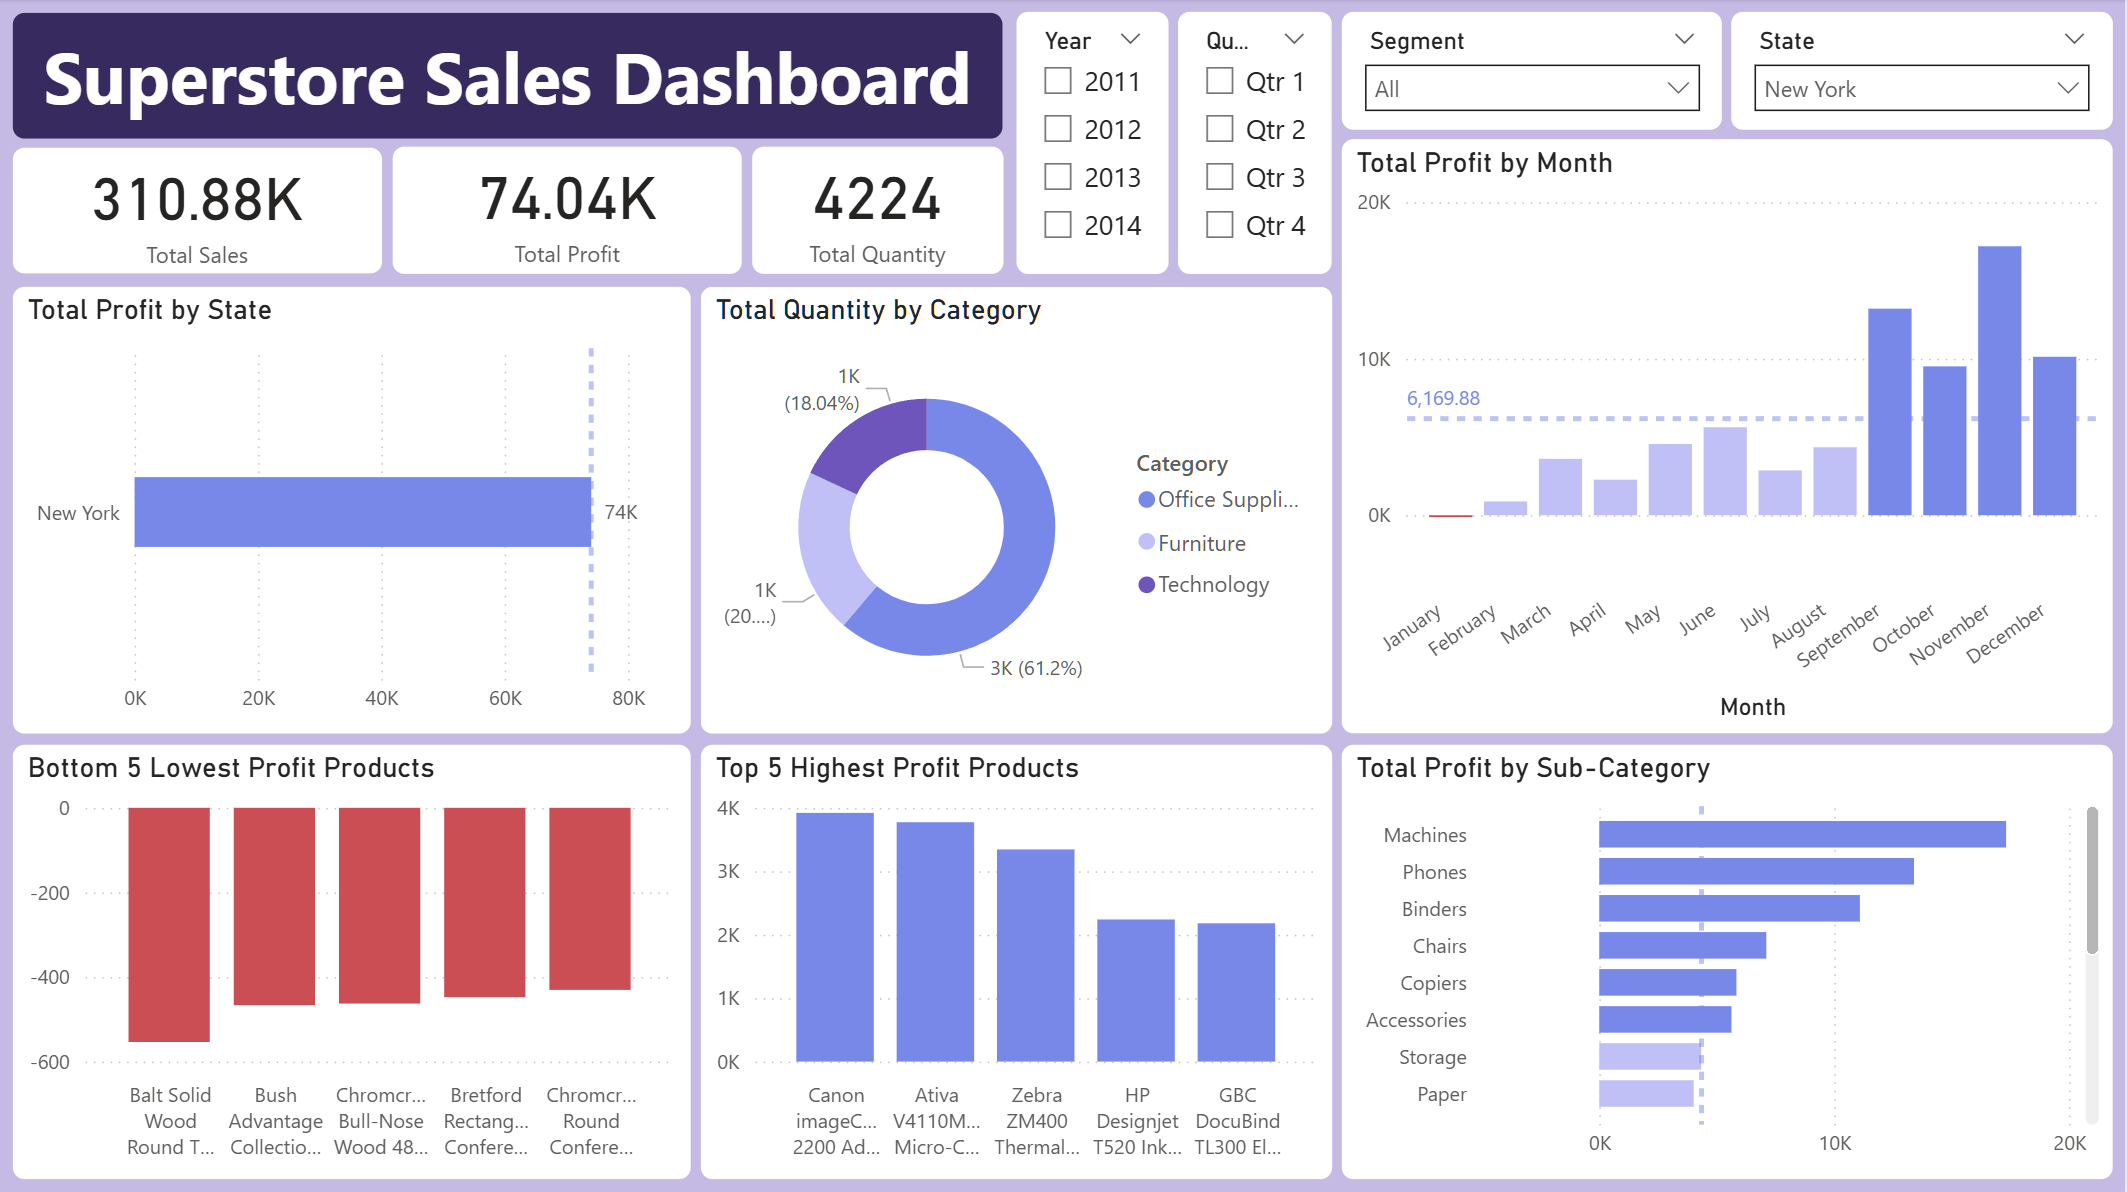

Layout of this report page (visuals, bound fields, positions):
{"tool":"powerbi","page":{"name":"Superstore Sales Dashboard","canvas":[1280,720],"ordinal":0},"visuals":[{"type":"card","fields":{"Values":["Sum(FactSales.Sales)"]},"box":[7.8,89.6,222.3,75.8],"z":0},{"type":"card","fields":{"Values":["Sum(FactSales.Profit)"]},"box":[236.7,88.9,210.5,76.5],"z":1000},{"type":"card","fields":{"Values":["Sum(FactSales.Quantity)"]},"box":[453.1,88.9,151,76.5],"z":2000},{"type":"slicer","fields":{"Values":["FactSales.Order Date.Variation.Date Hierarchy.Year"]},"box":[612.6,7.8,91.5,157.6],"z":3000},{"type":"slicer","fields":{"Values":["FactSales.Order Date.Variation.Date Hierarchy.Quarter"]},"box":[710,7.8,92.8,157.6],"z":4000},{"type":"clusteredBarChart","title":"Total Profit by State","fields":{"Y":["Sum(FactSales.Profit)"],"Category":["DimLocation.State"]},"box":[7.8,173.3,408,269.4],"z":5000},{"type":"donutChart","title":"Total Quantity by Category","fields":{"Y":["Sum(FactSales.Quantity)"],"Category":["DimProduct.Category"]},"box":[422.4,173.3,380.5,269.4],"z":6000},{"type":"clusteredColumnChart","title":"Total Profit by Month","fields":{"Category":["FactSales.Order Date.Variation.Date Hierarchy.Month"],"Y":["Sum(FactSales.Profit)"]},"box":[808.1,84.3,464.9,358.3],"z":7000},{"type":"slicer","fields":{"Values":["FactSales.Segment"]},"box":[808.1,7.8,229.4,70.6],"z":8000},{"type":"textbox","box":[7.8,8.5,596.3,75.8],"z":9000},{"type":"clusteredBarChart","title":"Total Profit by Sub-Category","fields":{"Y":["Sum(FactSales.Profit)"],"Category":["DimProduct.Sub-Category"]},"box":[808.1,449.2,464.9,261.5],"z":10000},{"type":"slicer","fields":{"Values":["DimLocation.State"]},"box":[1043.3,7.8,229.7,70.6],"z":11000},{"type":"clusteredColumnChart","title":"Top 5 Highest Profit Products","fields":{"Y":["Sum(FactSales.Profit)"],"Category":["DimProduct.Product Name"]},"box":[422.4,449.2,380.5,261.5],"z":12000},{"type":"clusteredColumnChart","title":"Bottom 5 Lowest Profit Products","fields":{"Y":["Sum(FactSales.Profit)"],"Category":["DimProduct.Product Name"]},"box":[7.8,449.2,408,261.5],"z":13000}]}

Visuals, with their boxes in screenshot pixels (x1, y1, x2, y2), scaled from the page's 1280x720 canvas onto the 2127x1192 screenshot:
card - Sum(FactSales.Sales): l=13, t=148, r=382, b=274
card - Sum(FactSales.Profit): l=393, t=147, r=743, b=274
card - Sum(FactSales.Quantity): l=753, t=147, r=1004, b=274
slicer - FactSales.Order Date.Variation.Date Hierarchy.Year: l=1018, t=13, r=1170, b=274
slicer - FactSales.Order Date.Variation.Date Hierarchy.Quarter: l=1180, t=13, r=1334, b=274
"Total Profit by State" clusteredBarChart: l=13, t=287, r=691, b=733
"Total Quantity by Category" donutChart: l=702, t=287, r=1334, b=733
"Total Profit by Month" clusteredColumnChart: l=1343, t=140, r=2115, b=733
slicer - FactSales.Segment: l=1343, t=13, r=1724, b=130
textbox: l=13, t=14, r=1004, b=140
"Total Profit by Sub-Category" clusteredBarChart: l=1343, t=744, r=2115, b=1177
slicer - DimLocation.State: l=1734, t=13, r=2115, b=130
"Top 5 Highest Profit Products" clusteredColumnChart: l=702, t=744, r=1334, b=1177
"Bottom 5 Lowest Profit Products" clusteredColumnChart: l=13, t=744, r=691, b=1177
